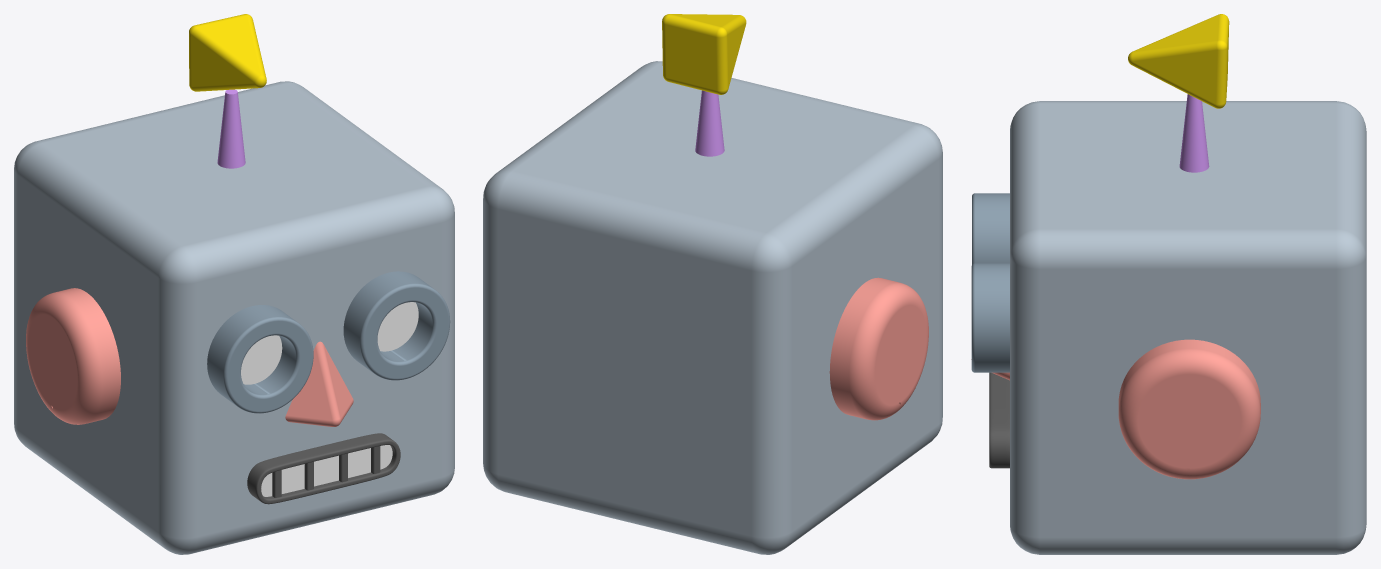
The model's file is robot.glb.
3 renders of one model, left to right at view 1: azimuth 30°, elevation 25°; view 2: azimuth 150°, elevation 25°; view 3: azimuth 270°, elevation 25°, orthographic. The views are drawn at different scales.
Parts seen in each view (by area): view 1: head, right.001, Cylinder.001, Cylinder, nose.001, mouth.001, nose, white, Cylinder.002, Ellipse.001, Ellipse; view 2: head, right.001, nose.001, Cylinder.002; view 3: head, left.001, nose.001, Cylinder.001, Cylinder, mouth.001, Cylinder.002.
Boxes of the visible parts, <box> form: head: <box>14,81,454,554</box>; right.001: <box>26,288,120,424</box>; Cylinder.001: <box>343,271,450,380</box>; Cylinder: <box>207,305,313,413</box>; nose.001: <box>189,14,266,91</box>; mouth.001: <box>247,433,400,504</box>; nose: <box>285,341,353,426</box>; white: <box>261,445,392,496</box>; Cylinder.002: <box>217,89,245,168</box>; Ellipse.001: <box>377,302,418,351</box>; Ellipse: <box>241,335,282,384</box>; head: <box>483,61,942,554</box>; right.001: <box>829,277,928,420</box>; nose.001: <box>662,14,746,94</box>; Cylinder.002: <box>695,90,724,156</box>; head: <box>1010,101,1366,554</box>; left.001: <box>1118,339,1260,479</box>; nose.001: <box>1128,14,1229,108</box>; Cylinder.001: <box>971,263,1009,372</box>; Cylinder: <box>972,193,1009,264</box>; mouth.001: <box>989,372,1009,468</box>; Cylinder.002: <box>1179,94,1209,172</box>.
Bounding box in the file's own units: 1.27 × 1.47 × 1.14.
